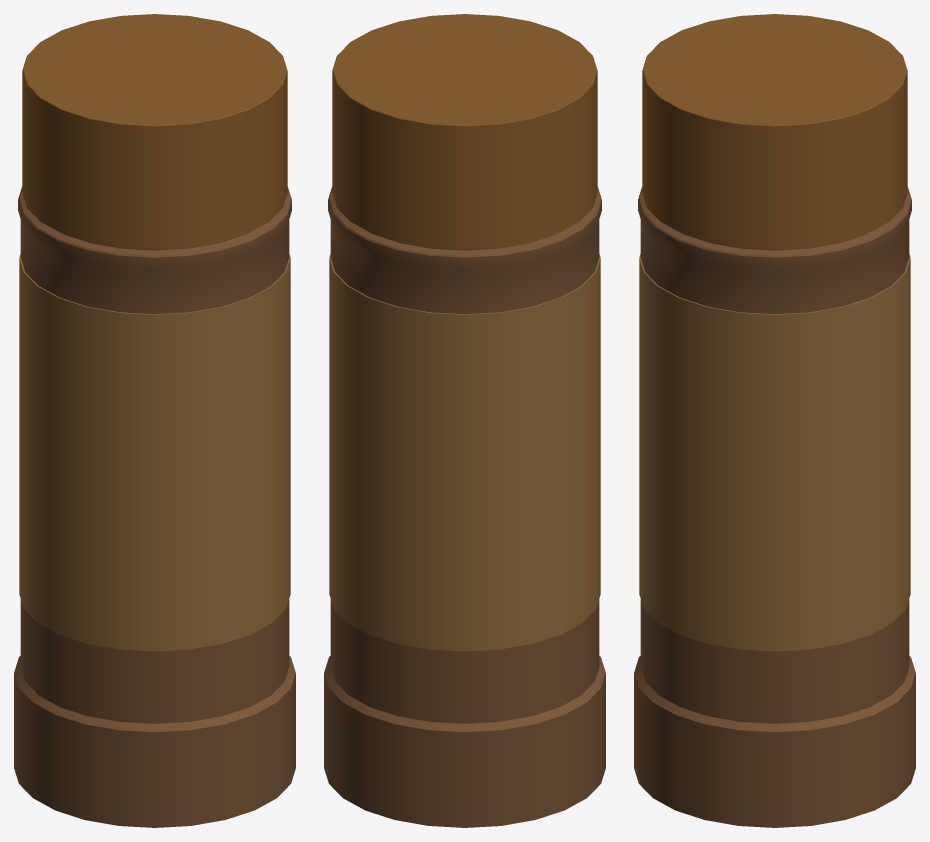
File: spice_shaker.fbx
3 views of the same model, side by side, from view 1: azimuth 30°, elevation 25°; view 2: azimuth 150°, elevation 25°; view 3: azimuth 270°, elevation 25° (orthographic).
Visible parts, largest first — view 1: spice_shaker; view 2: spice_shaker; view 3: spice_shaker.
Part boxes in pixels (box(x1,y1,x2,y2)): spice_shaker: box(14, 14, 295, 827); spice_shaker: box(324, 14, 605, 827); spice_shaker: box(634, 14, 915, 827).
Bounding box in the file's own units: 4 × 10.94 × 4.
